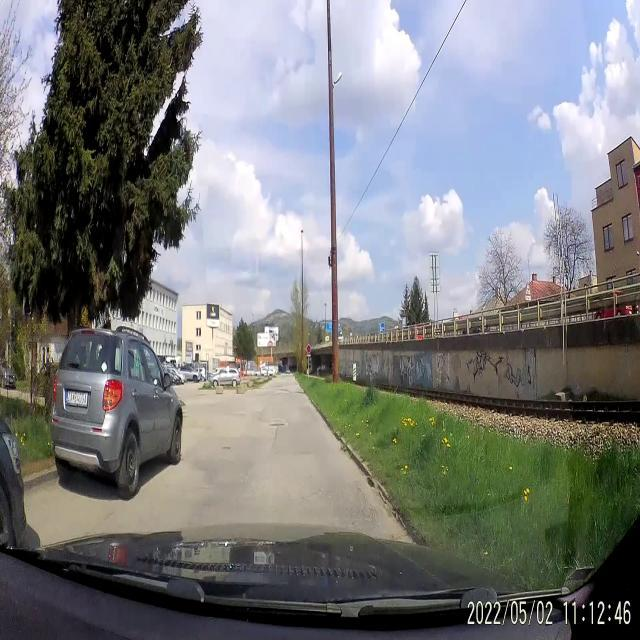Manhole: (269, 421, 286, 428)
Pothole: (221, 446, 231, 451)
